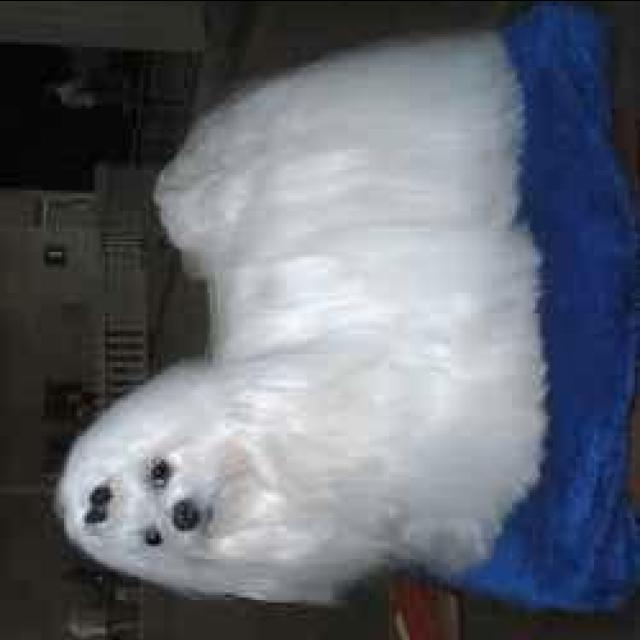maltese_dog: (53, 31, 556, 599)
